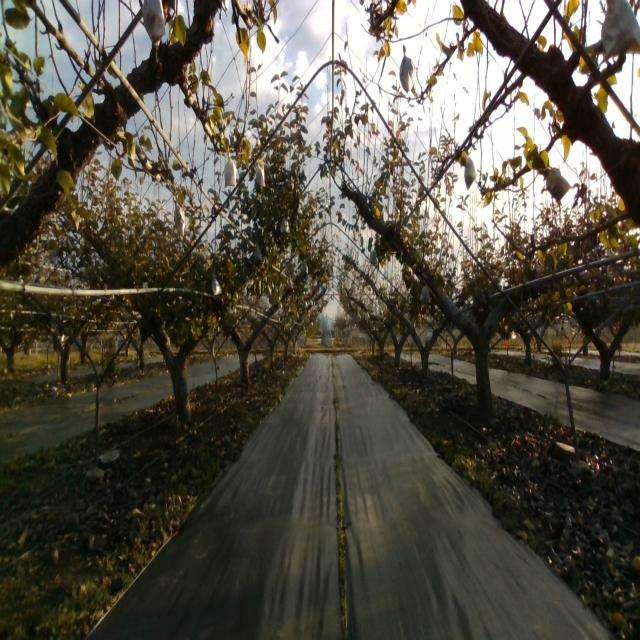pearbags: (599, 0, 640, 66), (143, 0, 166, 47), (546, 167, 571, 201), (399, 45, 414, 94), (221, 152, 238, 189), (173, 195, 185, 237), (464, 154, 476, 190), (256, 159, 266, 188), (418, 282, 431, 304), (211, 277, 222, 295)
